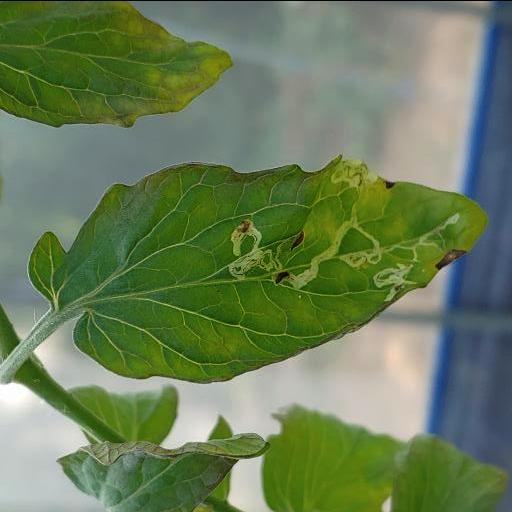Leaf Miner: (25, 150, 491, 384)
